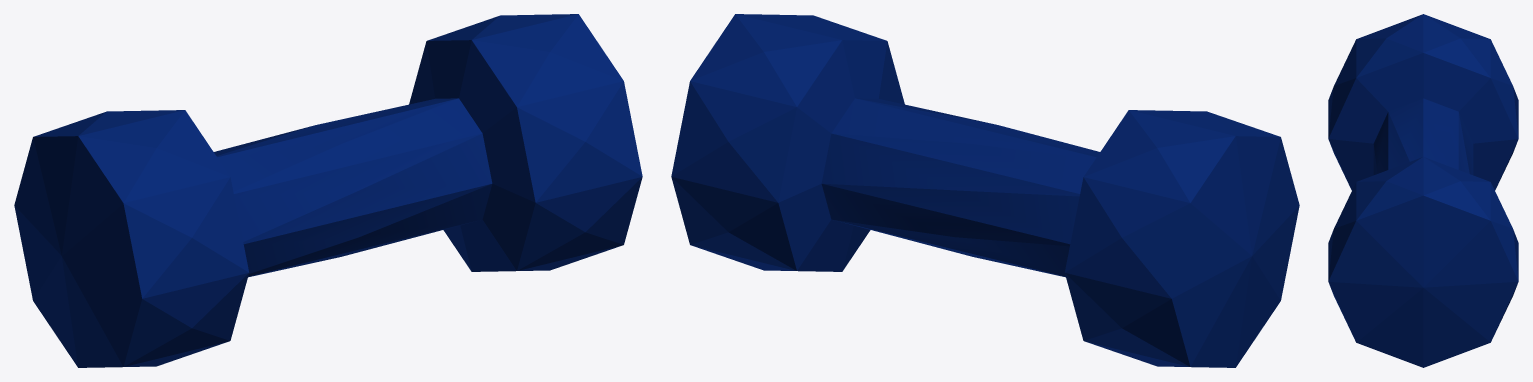
The model's file is item_weight.fbx.
The picture shows the model from 3 angles, left to right: view 1: azimuth 30°, elevation 25°; view 2: azimuth 150°, elevation 25°; view 3: azimuth 270°, elevation 25°; orthographic projection. The views are drawn at different scales.
Parts seen in each view (by area): view 1: item_weight; view 2: item_weight; view 3: item_weight.
Boxes of the visible parts, bbox=[...] form: item_weight: bbox=[14, 14, 642, 367]; item_weight: bbox=[671, 14, 1299, 367]; item_weight: bbox=[1328, 14, 1518, 367].
Size of the model in its own units: 26.01 by 10.81 by 10.81.
